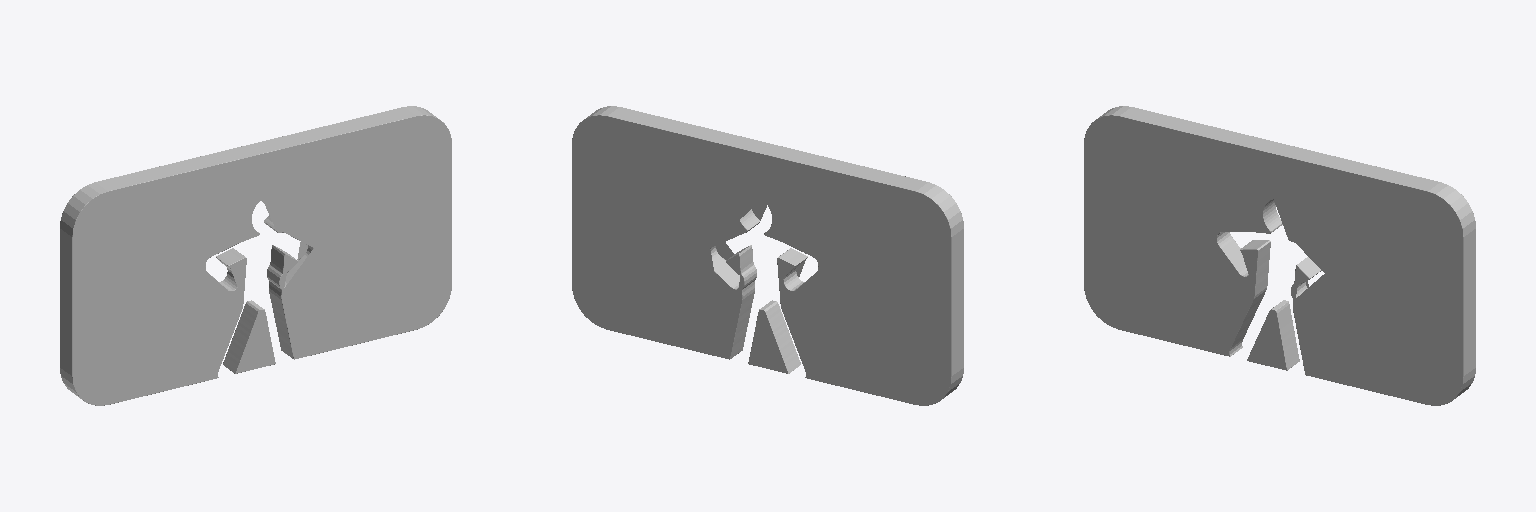
3 views of the same model, side by side, from view 1: azimuth 30°, elevation 25°; view 2: azimuth 150°, elevation 25°; view 3: azimuth 330°, elevation 25° (orthographic).
Visible parts, largest first — view 1: wall_30; view 2: wall_30; view 3: wall_30.
Part boxes in pixels (x1,y1,x2,y2): wall_30: (60,106,451,405); wall_30: (572,106,963,405); wall_30: (1084,106,1475,405).
Size of the model in its own units: 12 by 6.45 by 0.7.